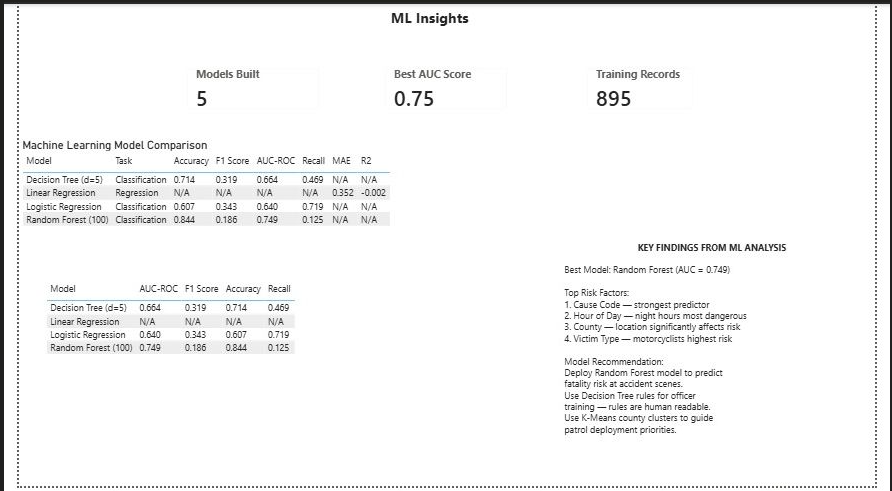

The page's visual inventory and layout, read from the dashboard file:
{"tool":"powerbi","page":{"name":"ML Insights","canvas":[1280,720],"ordinal":4},"visuals":[{"type":"textbox","box":[449.9,0,327.6,49.2],"z":0},{"type":"tableEx","title":"Machine Learning Model Comparison","fields":{"Values":["model_comparison_full.Model","model_comparison_full.Task","model_comparison_full.Accuracy","model_comparison_full.F1 Score","model_comparison_full.AUC-ROC","model_comparison_full.Recall","model_comparison_full.MAE","model_comparison_full.R2"]},"box":[0,200.2,702.1,171.8],"z":1000},{"type":"cardVisual","fields":{"Data":["model_comparison_full.Best AUC Score"]},"box":[530.3,79.2,216.6,94.1],"z":2000},{"type":"cardVisual","fields":{"Data":["model_comparison_full.Models Built"]},"box":[234.5,79.2,231.5,94.1],"z":3000},{"type":"cardVisual","fields":{"Data":["model_comparison_full.Training Records"]},"box":[832,79.2,191.2,94.1],"z":4000},{"type":"textbox","box":[809.6,349.5,451.1,333.1],"z":5000},{"type":"tableEx","fields":{"Values":["model_comparison_full.Model","model_comparison_full.AUC-ROC","model_comparison_full.F1 Score","model_comparison_full.Accuracy","model_comparison_full.Recall"]},"box":[36,410,432.2,310.3],"z":6000}]}

Visuals, with their boxes in screenshot pixels (x1, y1, x2, y2), scaled from the page's 1280x720 canvas onto the 892x491 screenshot:
textbox: x1=314 y1=0 x2=542 y2=34
"Machine Learning Model Comparison" tableEx: x1=0 y1=137 x2=489 y2=254
cardVisual - model_comparison_full.Best AUC Score: x1=370 y1=54 x2=520 y2=118
cardVisual - model_comparison_full.Models Built: x1=163 y1=54 x2=325 y2=118
cardVisual - model_comparison_full.Training Records: x1=580 y1=54 x2=713 y2=118
textbox: x1=564 y1=238 x2=879 y2=465
tableEx - model_comparison_full.Model x model_comparison_full.AUC-ROC: x1=25 y1=280 x2=326 y2=490
